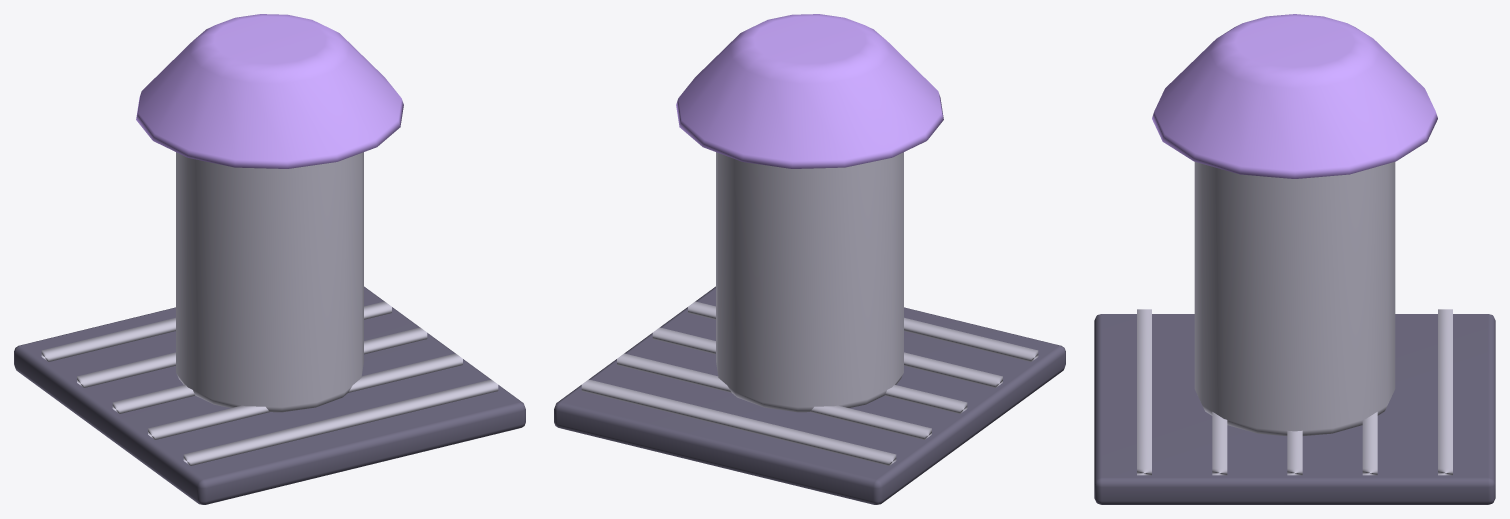
File: candy_vent.glb
The picture shows the model from 3 angles, left to right: view 1: azimuth 30°, elevation 25°; view 2: azimuth 150°, elevation 25°; view 3: azimuth 270°, elevation 25°; orthographic projection. The views are drawn at different scales.
Visible parts, largest first — view 1: Vent; view 2: Vent; view 3: Vent.
Part boxes in pixels (x1=…): Vent: x1=14, y1=14, x2=525, y2=504; Vent: x1=554, y1=14, x2=1065, y2=504; Vent: x1=1094, y1=14, x2=1495, y2=504.
Size of the model in its own units: 1.6 by 1.67 by 1.6.
